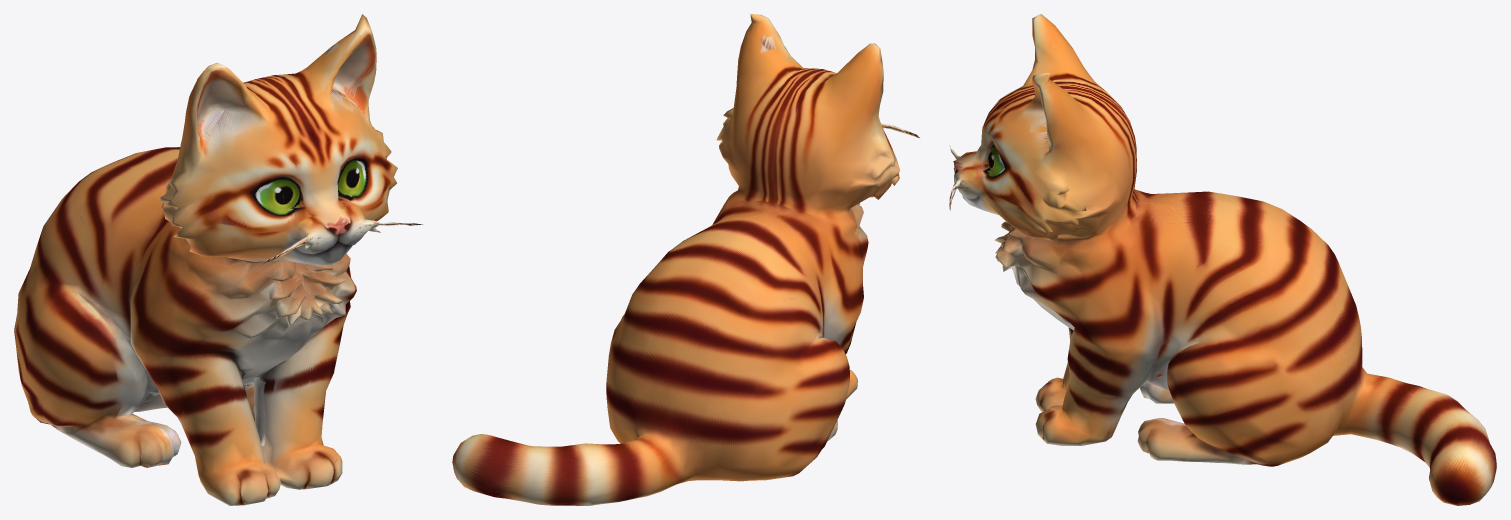
File: superposition-cat.obj
3 renders of one model, left to right at view 1: azimuth 30°, elevation 25°; view 2: azimuth 150°, elevation 25°; view 3: azimuth 270°, elevation 25°, orthographic. The views are drawn at different scales.
Visible parts, largest first — view 1: Meshy_AI_a_cat_0423130232_texture; view 2: Meshy_AI_a_cat_0423130232_texture; view 3: Meshy_AI_a_cat_0423130232_texture.
Part boxes in pixels (bbox=[...]): Meshy_AI_a_cat_0423130232_texture: bbox=[14, 14, 422, 505]; Meshy_AI_a_cat_0423130232_texture: bbox=[452, 14, 919, 505]; Meshy_AI_a_cat_0423130232_texture: bbox=[949, 14, 1496, 505].
Size of the model in its own units: 0.8259 by 1 by 1.29.
Materials: 1 (1 with a texture image).
